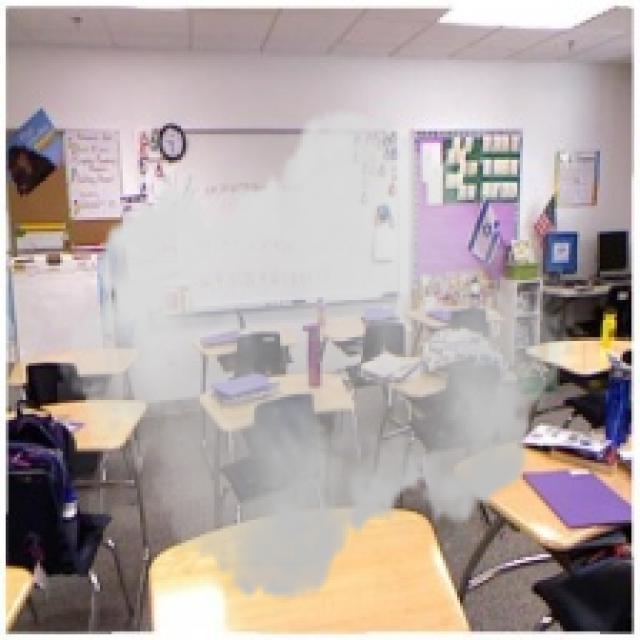Smoke: (57, 89, 574, 620)
